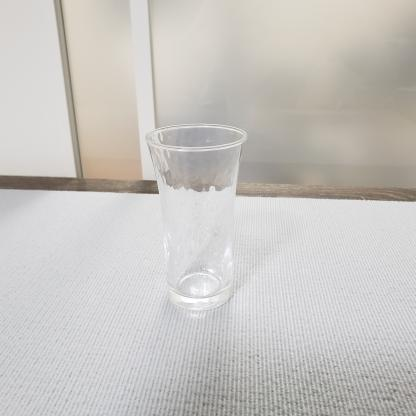glass: (138, 116, 266, 316)
